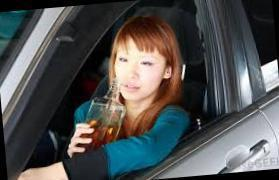Drunk: (115, 44, 159, 99)
